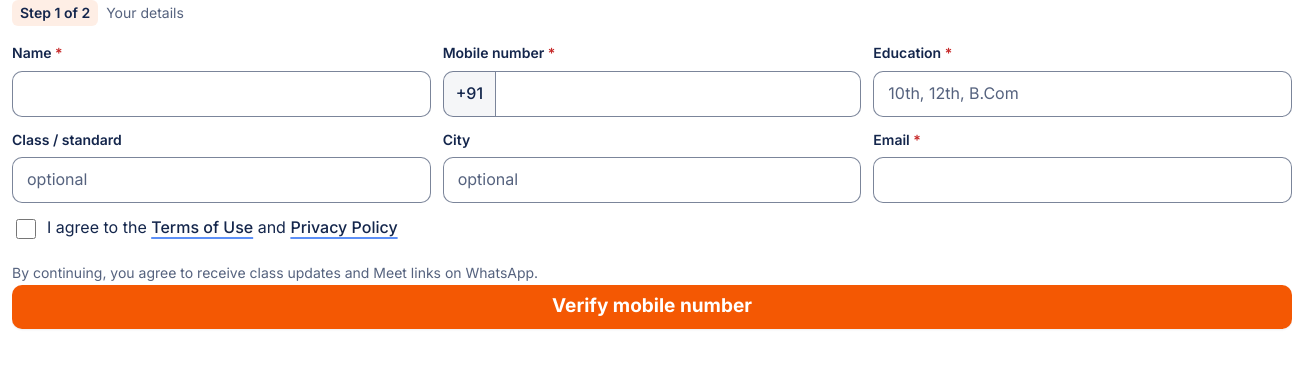
Test: student registration: the email is required, and the OTP step does not start without it
Type "Asha" into the field labelled "Name *". click: [221, 94]
box: 12,71 -> 431,117
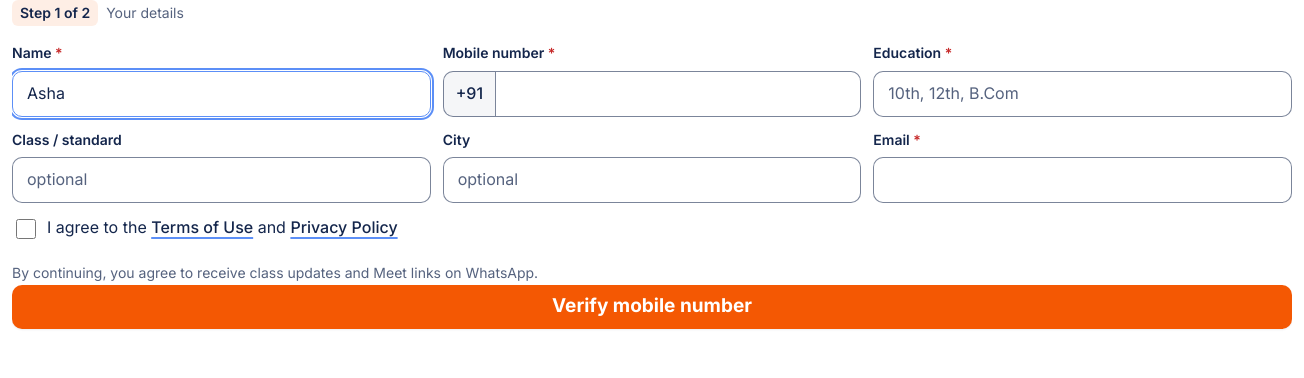
Type "9876543210" into the field labelled "Mobile number *". click: [678, 94]
box: 495,71 -> 861,117
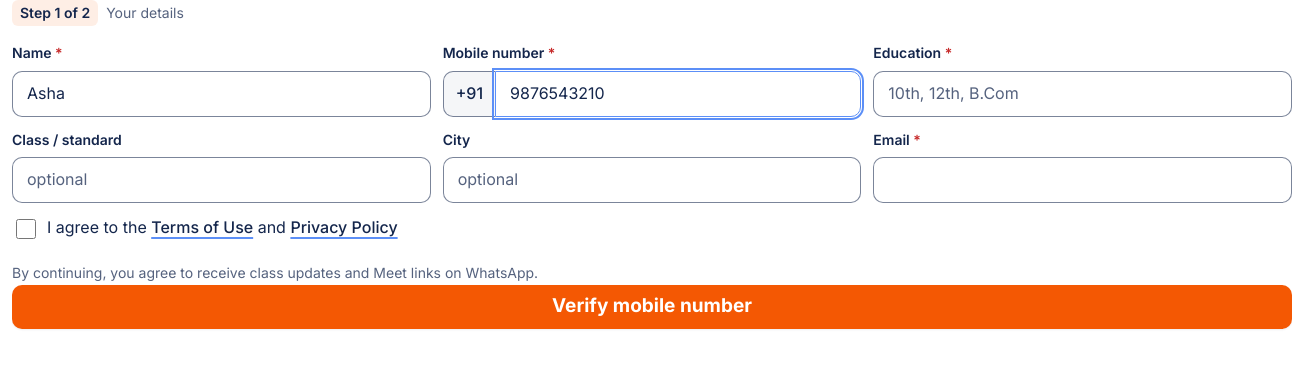
Type "10th" into the field labelled "Education *". click: [1083, 94]
box: 873,71 -> 1292,117
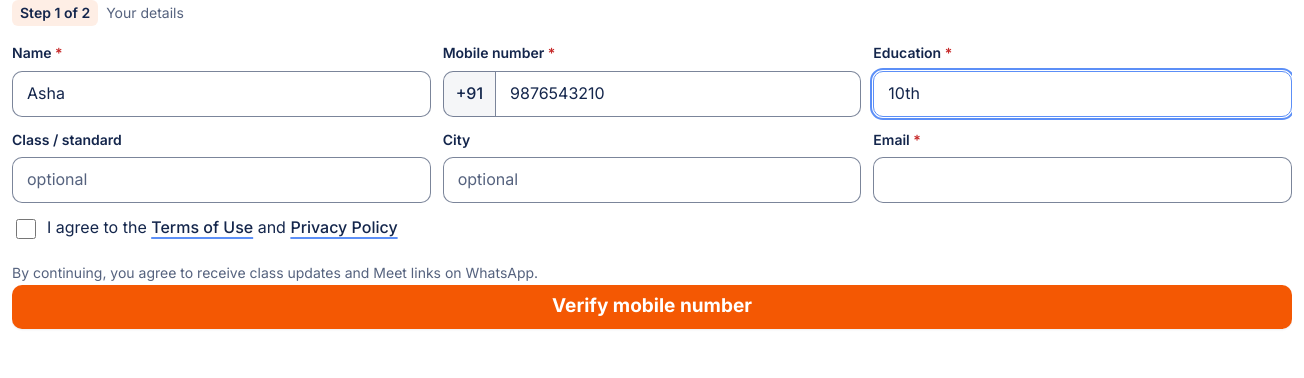
Click the checkbox labelled "I agree to the Terms of Use and Privacy Policy". click: [26, 229]
box: 16,219 -> 36,239
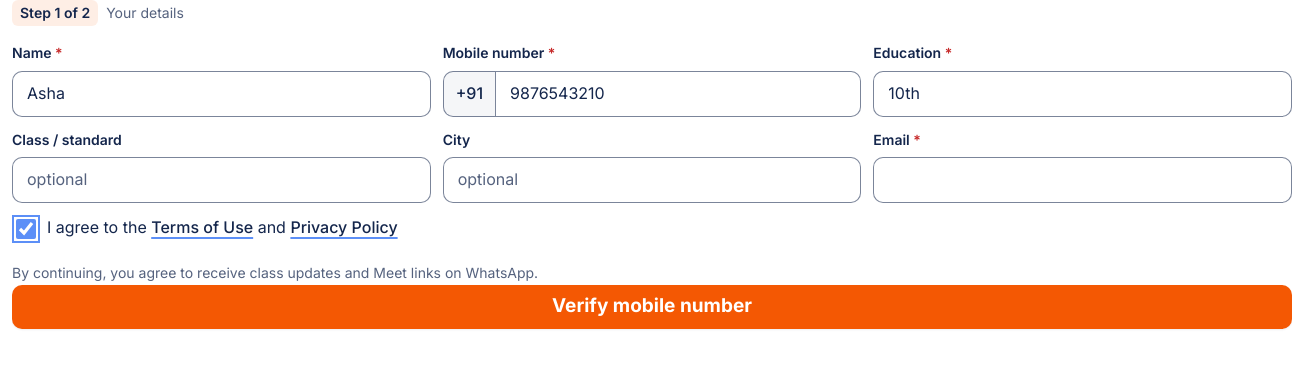
Click the button "Verify mobile number". click: [652, 307]
box: 12,285 -> 1292,329
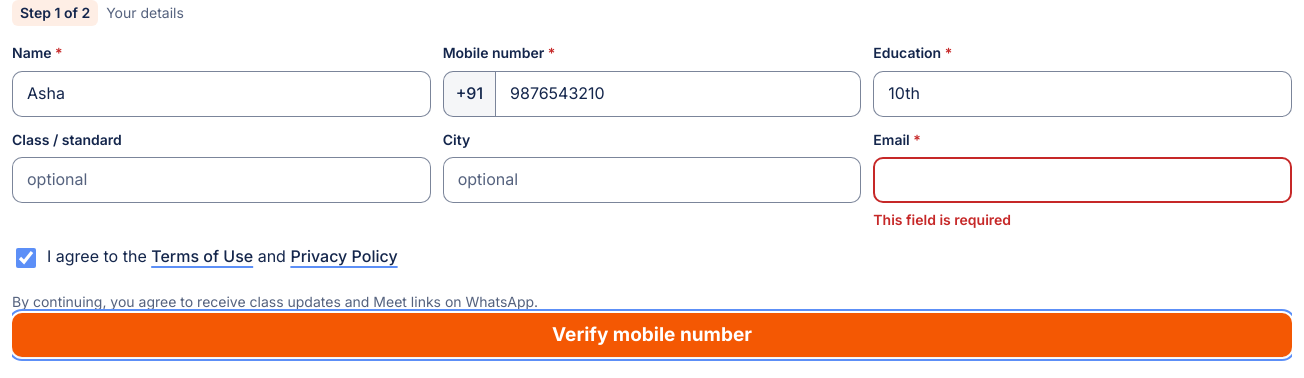
Check: the text "This field is required" is shown, box 873,211 -> 1011,228
